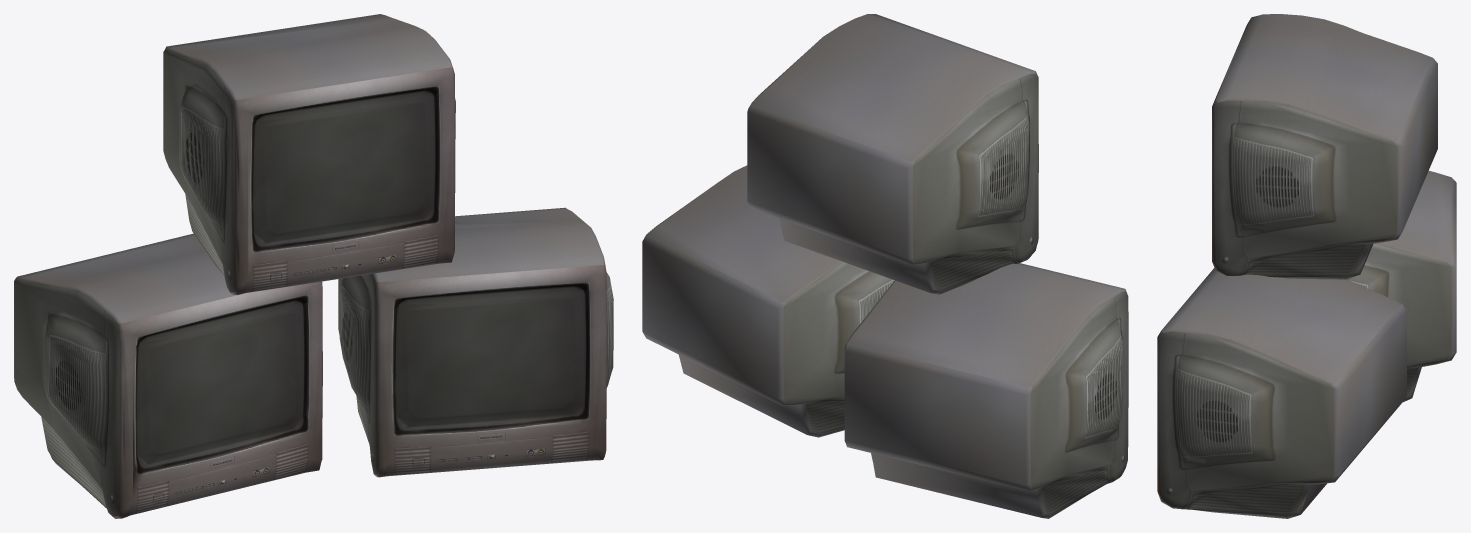
The model's file is CRT_TV2.glb.
3 renders of one model, left to right at view 1: azimuth 30°, elevation 25°; view 2: azimuth 150°, elevation 25°; view 3: azimuth 270°, elevation 25°, orthographic. The views are drawn at different scales.
Parts seen in each view (by area): view 1: crtTV2; view 2: crtTV2; view 3: crtTV2.
Part boxes in pixels (x1,y1,x2,y2): crtTV2: [14, 14, 613, 518]; crtTV2: [642, 14, 1128, 518]; crtTV2: [1157, 14, 1456, 518].
Size of what is drawn, in the model's own units: 1.83 by 1.44 by 1.08.
Materials: 3 (3 with a texture image).
